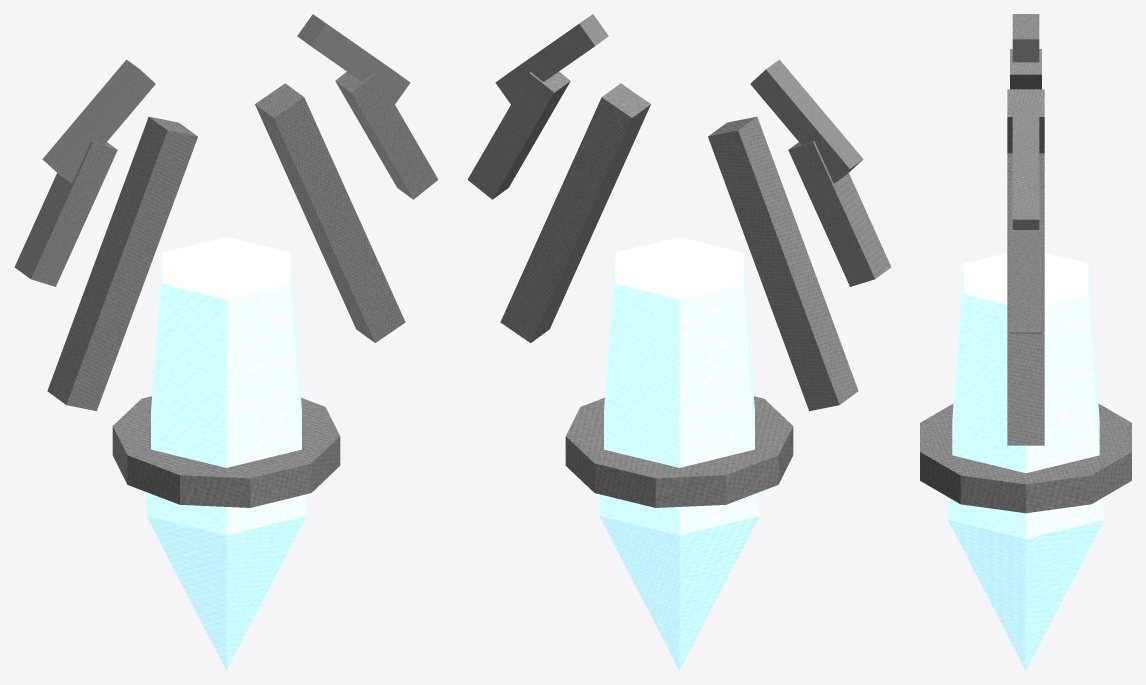
The model's file is boss-eikthyr-stormheart.glb.
3 renders of one model, left to right at view 1: azimuth 30°, elevation 25°; view 2: azimuth 150°, elevation 25°; view 3: azimuth 270°, elevation 25°, orthographic. The views are drawn at different scales.
Parts seen in each view (by area): view 1: heart, left-antler, right-antler, heart-band, antler-branch-a--1, antler-branch-a-1, antler-branch-b--1, antler-branch-b-1; view 2: heart, left-antler, right-antler, heart-band, antler-branch-a--1, antler-branch-a-1, antler-branch-b--1, antler-branch-b-1; view 3: heart, heart-band, right-antler, antler-branch-a-1, antler-branch-b-1, antler-branch-b--1, left-antler, antler-branch-a--1.
Part boxes in pixels (<box>): heart: <box>146,237,306,670</box>; left-antler: <box>47,116,197,410</box>; right-antler: <box>255,83,405,342</box>; heart-band: <box>112,396,340,507</box>; antler-branch-a--1: <box>14,141,117,286</box>; antler-branch-a-1: <box>335,72,438,199</box>; antler-branch-b--1: <box>42,59,155,183</box>; antler-branch-b-1: <box>297,14,410,103</box>; heart: <box>599,237,759,670</box>; left-antler: <box>708,116,858,410</box>; right-antler: <box>500,83,650,342</box>; heart-band: <box>565,396,793,507</box>; antler-branch-a--1: <box>788,141,891,286</box>; antler-branch-a-1: <box>467,72,570,199</box>; antler-branch-b--1: <box>750,59,863,183</box>; antler-branch-b-1: <box>495,14,608,103</box>; heart: <box>948,253,1103,670</box>; heart-band: <box>920,403,1131,513</box>; right-antler: <box>1007,153,1044,445</box>; antler-branch-a-1: <box>1010,184,1041,333</box>; antler-branch-b-1: <box>1012,102,1039,229</box>; antler-branch-b--1: <box>1012,14,1039,62</box>; left-antler: <box>1007,89,1044,152</box>; antler-branch-a--1: <box>1010,49,1041,89</box>.
Bounding box in the file's own units: 0.8644 × 1.27 × 0.3994.
Materials: 3 (3 with a texture image).
